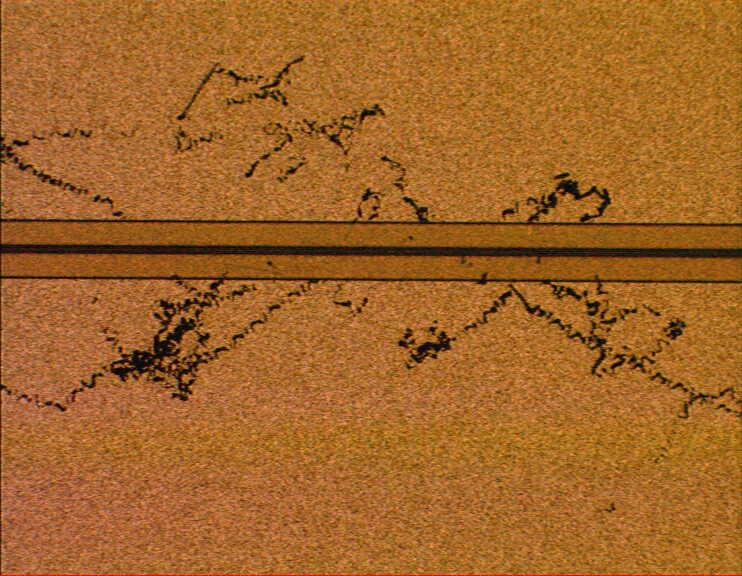SCRATCH: (1, 47, 742, 426)
